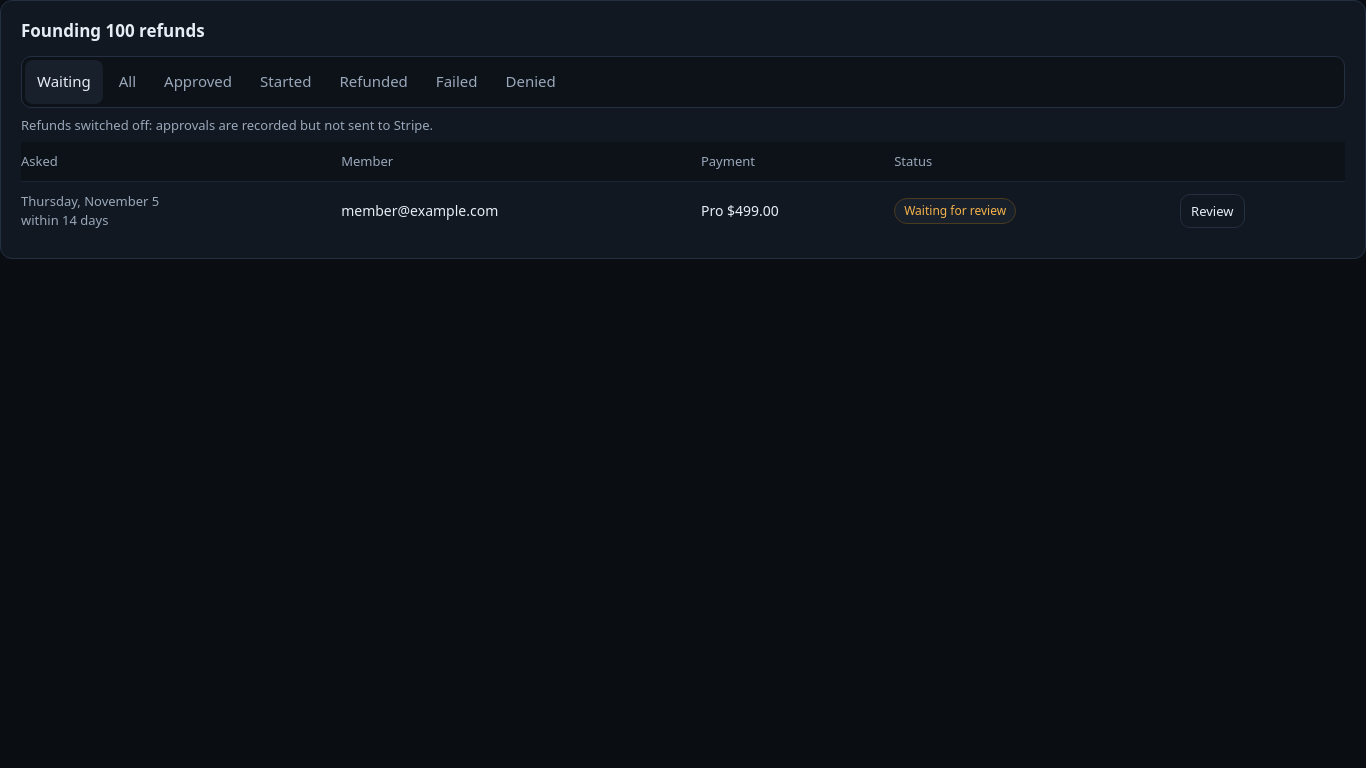
Scenario: admin refunds › lists waiting requests and approves one with the guarantee
The image size is (1366, 768).
Expected: the text "member@example.com" is shown, [341,182,701,240]
Step 1. Click the button "Review" → (1212, 211), box [1180,194,1244,228]
(page scrolled)
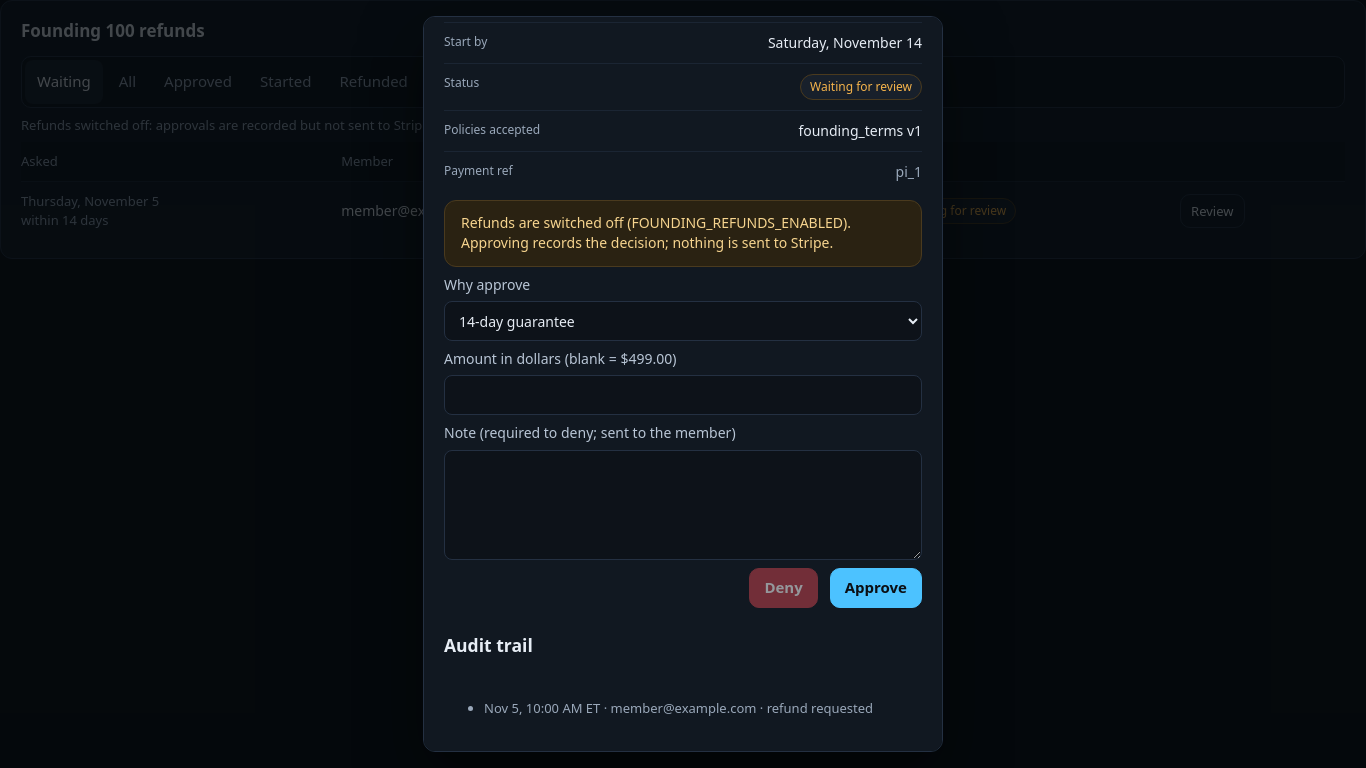
Now the text "nothing is sent to Stripe" is shown, box [461,213,851,252]
Now the text "founding_terms v1" is shown, box [798,121,922,141]
Now the button "Deny" is disabled, box [749,568,818,608]
Step 2. Click the button "Approve" → (876, 588), box [830,568,922,608]
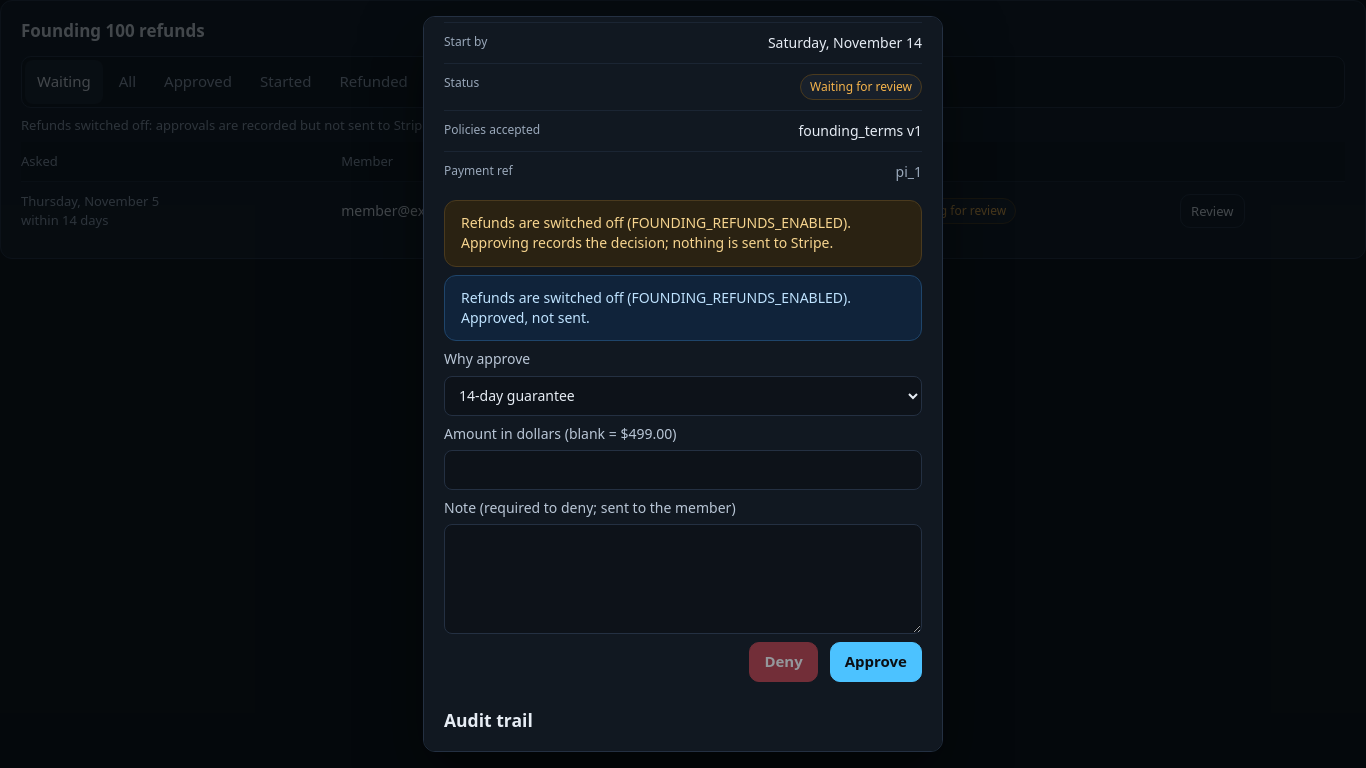
Now the text "Refunds are switched off (FOUNDING_REFUNDS_ENABLED). Approved, not sent." is shown, box [444,275,922,341]
